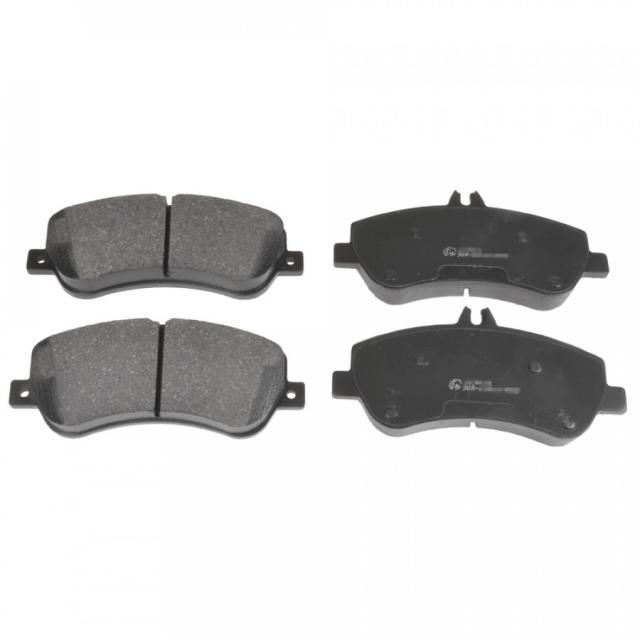brake_pad: (323, 318, 630, 452), (327, 180, 621, 308), (3, 320, 311, 441), (20, 182, 312, 308)
